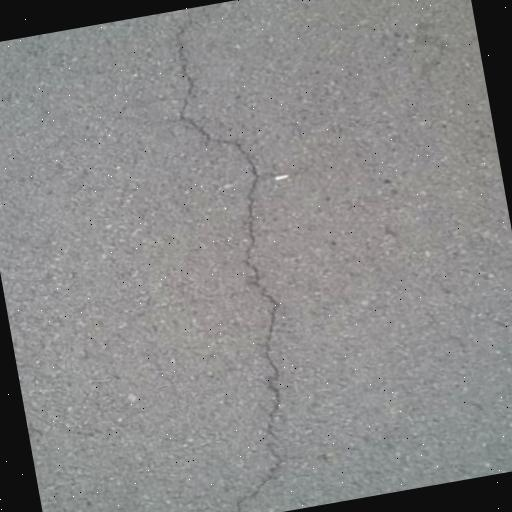spalling: (159, 16, 293, 512)
